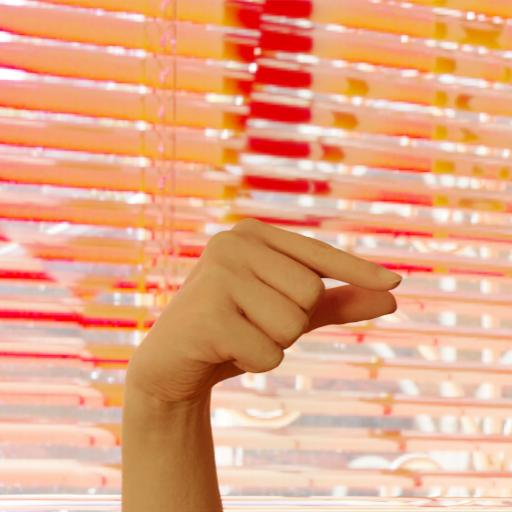G: (118, 199, 406, 414)
